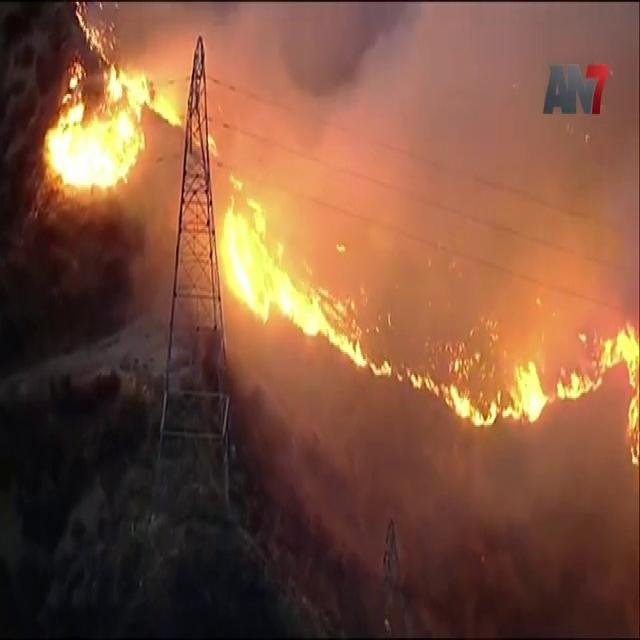Fire: (212, 178, 390, 378), (40, 56, 179, 198), (557, 318, 637, 469), (412, 372, 548, 424)
Smoke: (246, 480, 640, 631)
